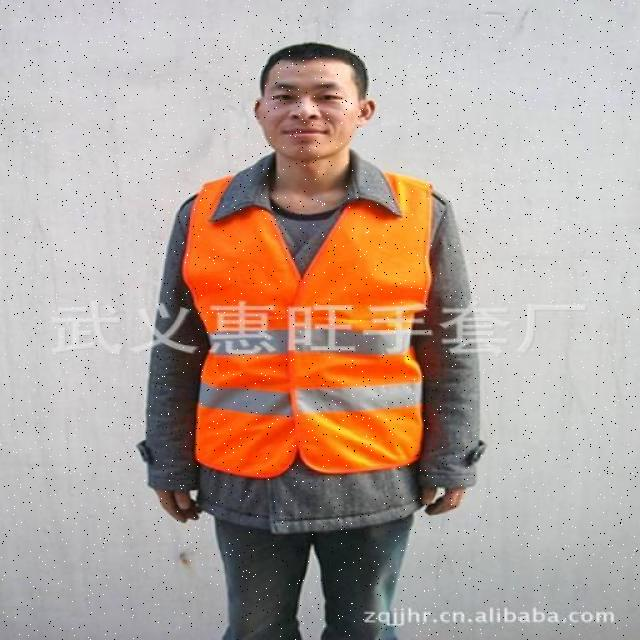Person: (129, 30, 481, 640)
Vest: (194, 198, 434, 474)
